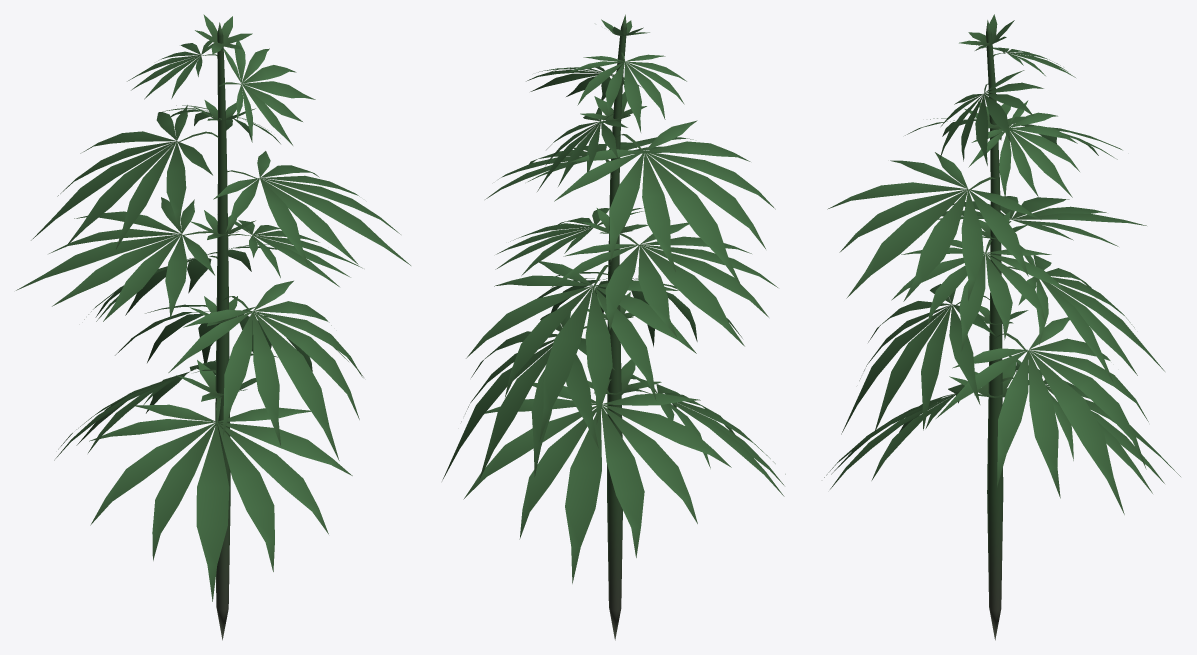
The model's file is plants-leafy-plants-cannabis_v2.fbx.
3 renders of one model, left to right at view 1: azimuth 30°, elevation 25°; view 2: azimuth 150°, elevation 25°; view 3: azimuth 270°, elevation 25°, orthographic.
Visible parts, largest first — view 1: Cannabis_v2; view 2: Cannabis_v2; view 3: Cannabis_v2.
Part boxes in pixels (left/top/right/bottom): Cannabis_v2: left=16, top=14, right=410, bottom=640; Cannabis_v2: left=442, top=14, right=785, bottom=640; Cannabis_v2: left=824, top=14, right=1180, bottom=640.
Size of the model in its own units: 0.7894 by 1.5 by 0.7974.
